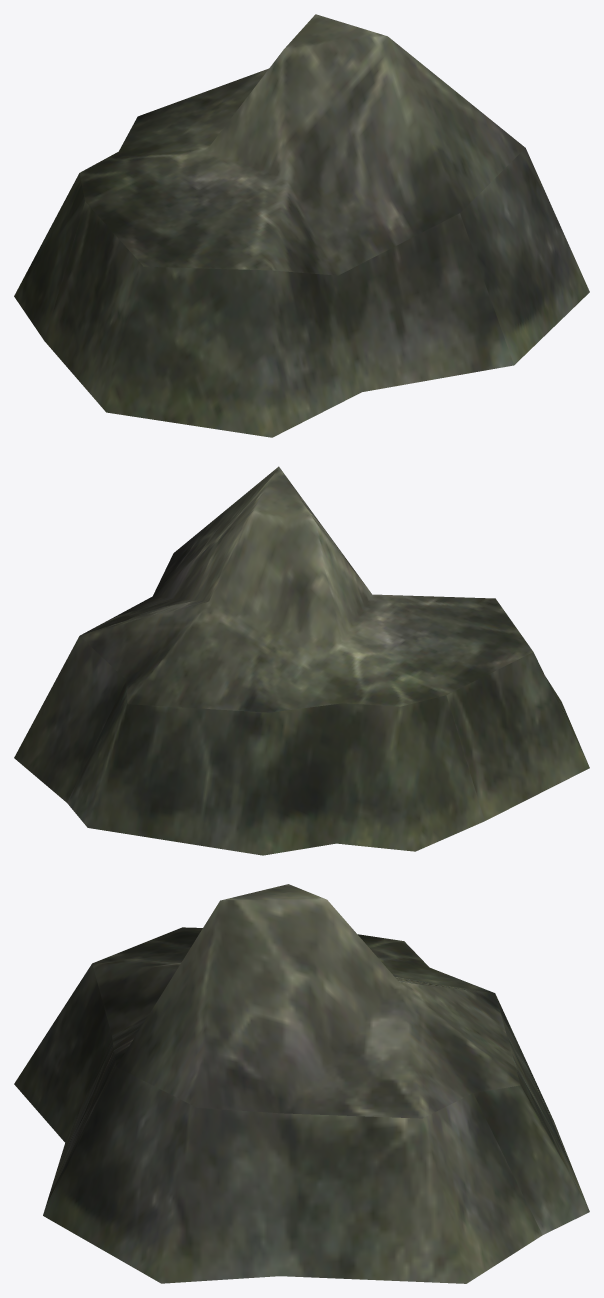
Rendered from yw_roc006.FBX.
3 views of the same model, one above another, from view 1: azimuth 30°, elevation 25°; view 2: azimuth 150°, elevation 25°; view 3: azimuth 270°, elevation 25° (orthographic). The views are drawn at different scales.
Visible parts, largest first — view 1: yw_roc006; view 2: yw_roc006; view 3: yw_roc006.
Boxes of the visible parts, x1=… form: yw_roc006: x1=14, y1=14, x2=589, y2=437; yw_roc006: x1=14, y1=466, x2=589, y2=855; yw_roc006: x1=14, y1=884, x2=589, y2=1283.
Bounding box in the file's own units: 8.31 × 4.54 × 8.07.
